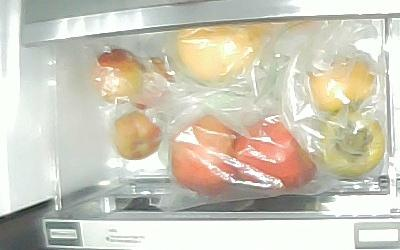apple_vinyl: (234, 113, 316, 188), (170, 113, 238, 196)
grapefruit_vinyl: (175, 24, 261, 81)
persimmon_vinyl: (315, 111, 385, 178), (309, 54, 375, 113)
prune_vinyl: (92, 48, 145, 104), (113, 111, 160, 160), (136, 55, 175, 111)
